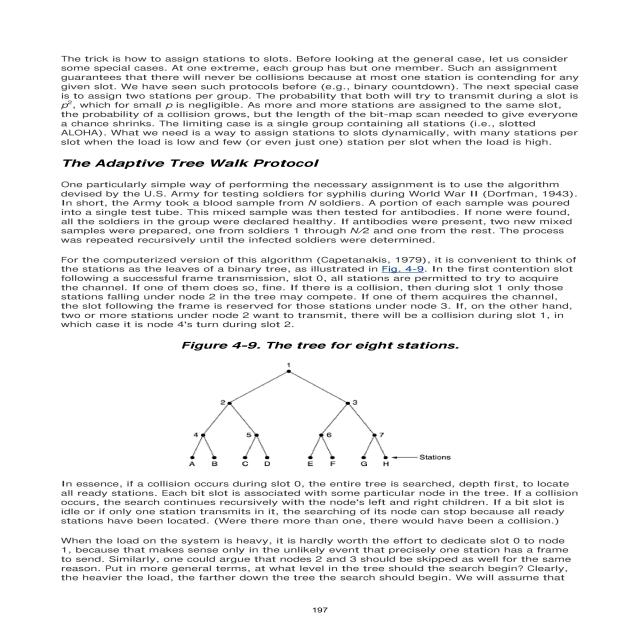diagram: (151, 336, 516, 467)
